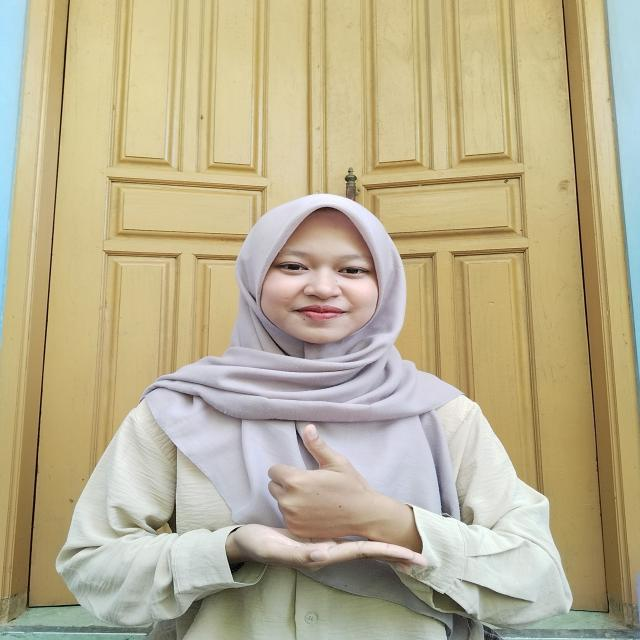cantik: (218, 416, 437, 586)
